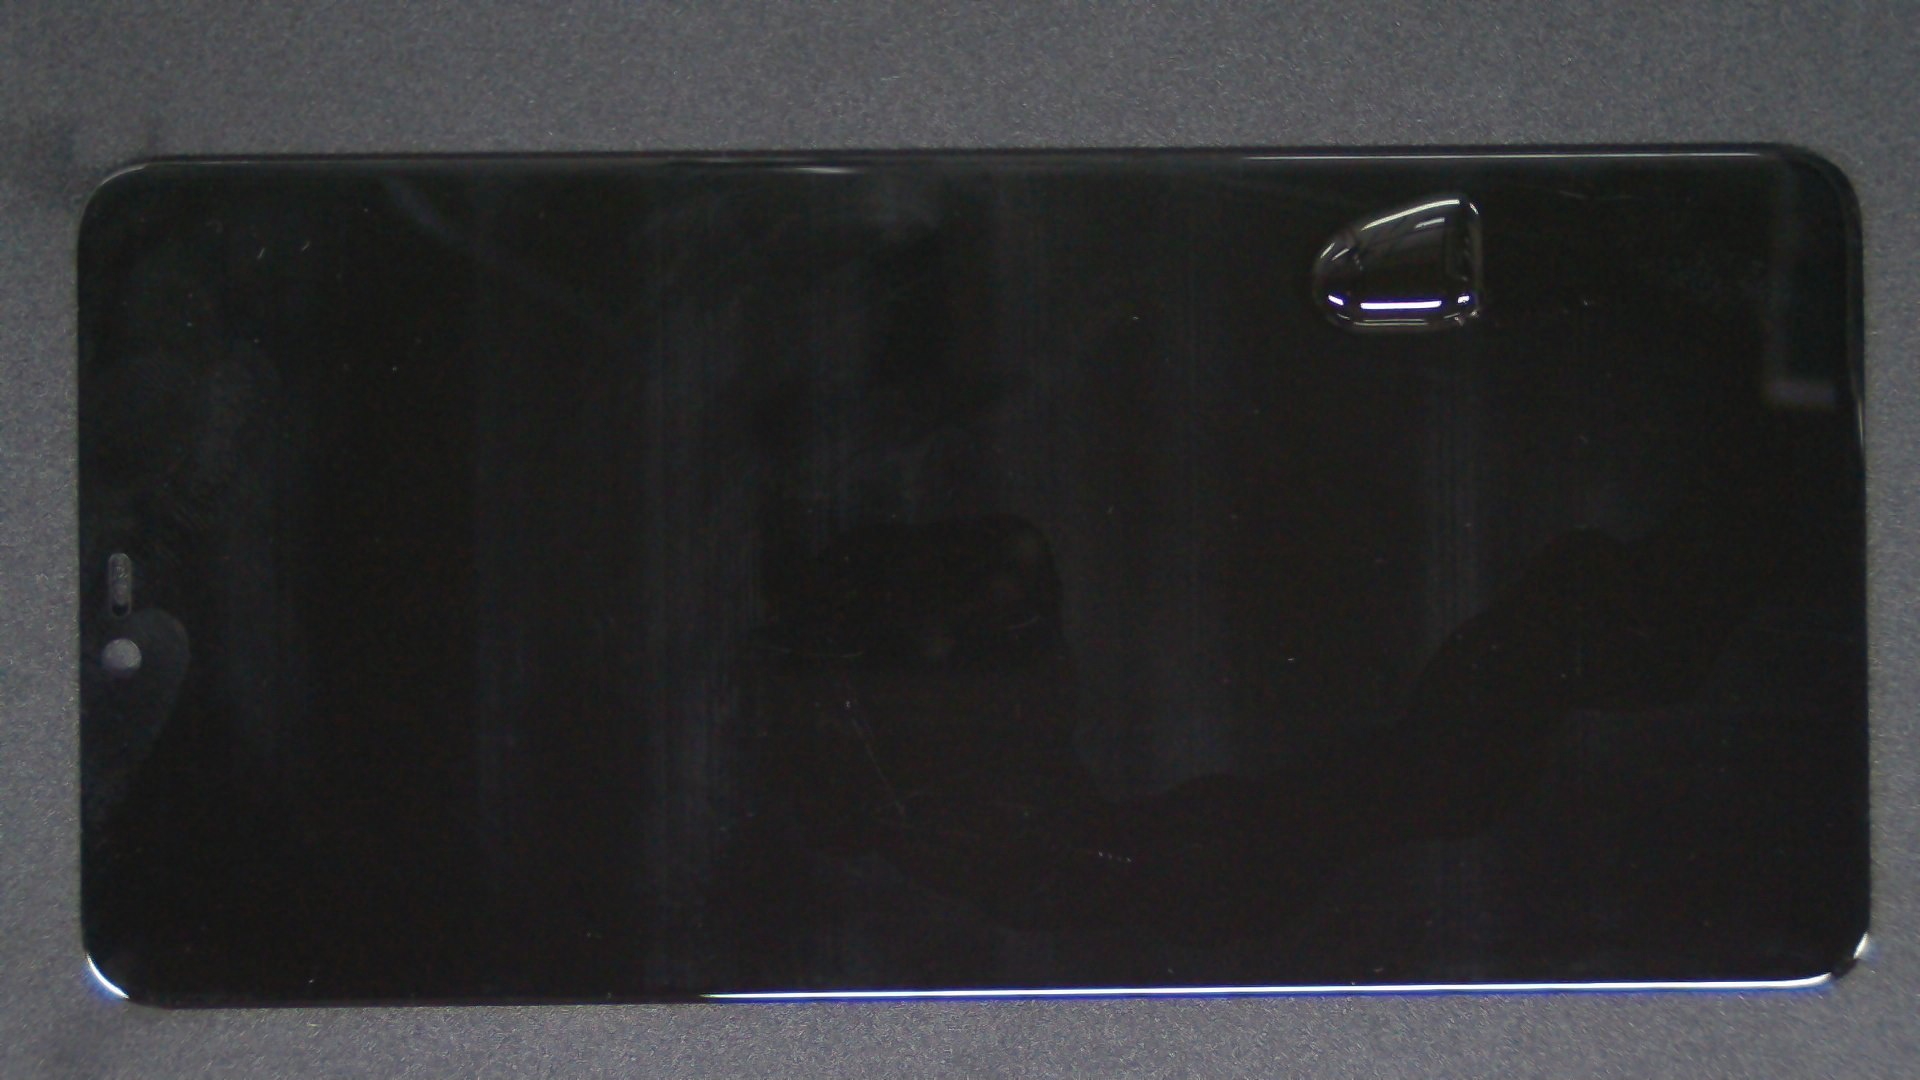oil: (728, 95, 1920, 286)
